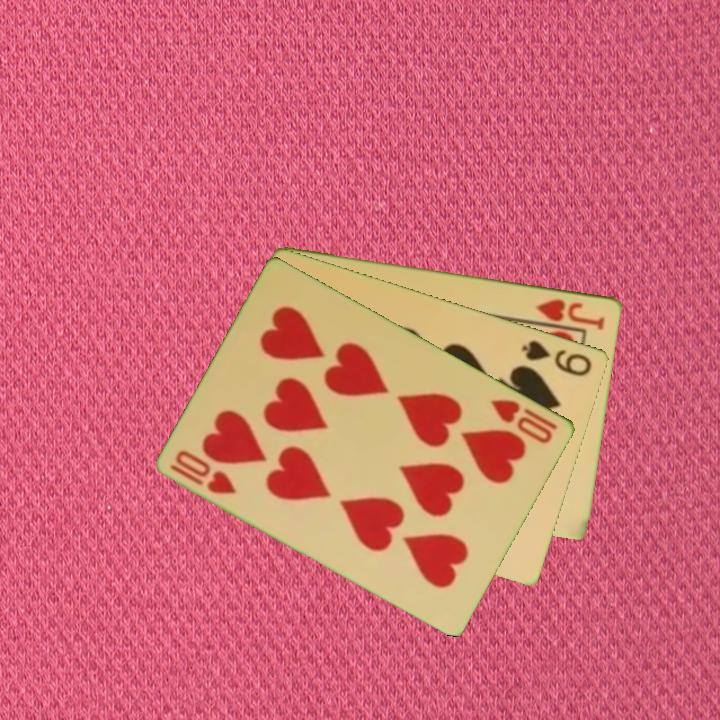10h: (488, 395, 561, 447), (167, 446, 240, 497)
9s: (518, 336, 596, 379)
Jh: (533, 295, 608, 332)
